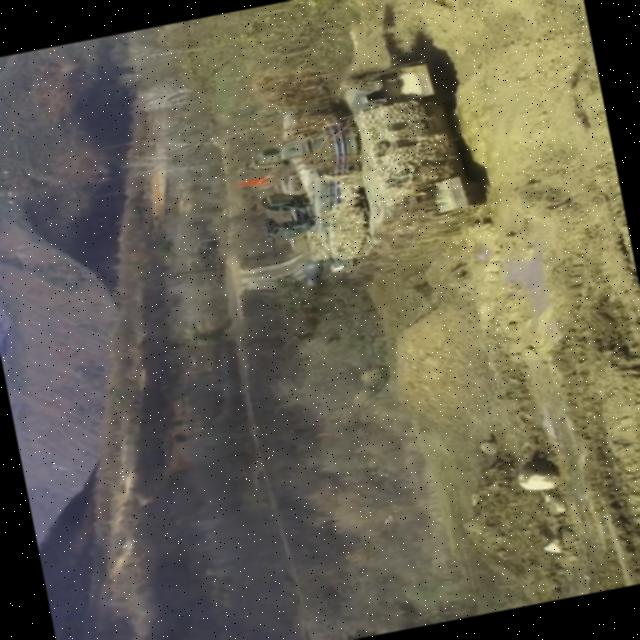korea tank: (227, 41, 502, 344)
